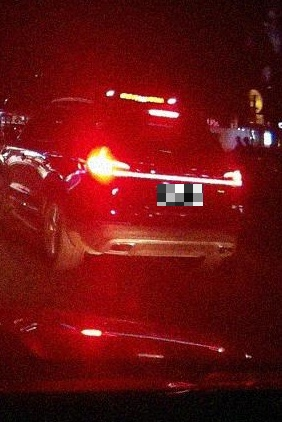L_light: (85, 154, 131, 179)
R_light: (220, 168, 244, 187)
T_light: (147, 108, 180, 119)
night-left: (77, 97, 246, 275)
plate_1: (157, 184, 203, 206)
